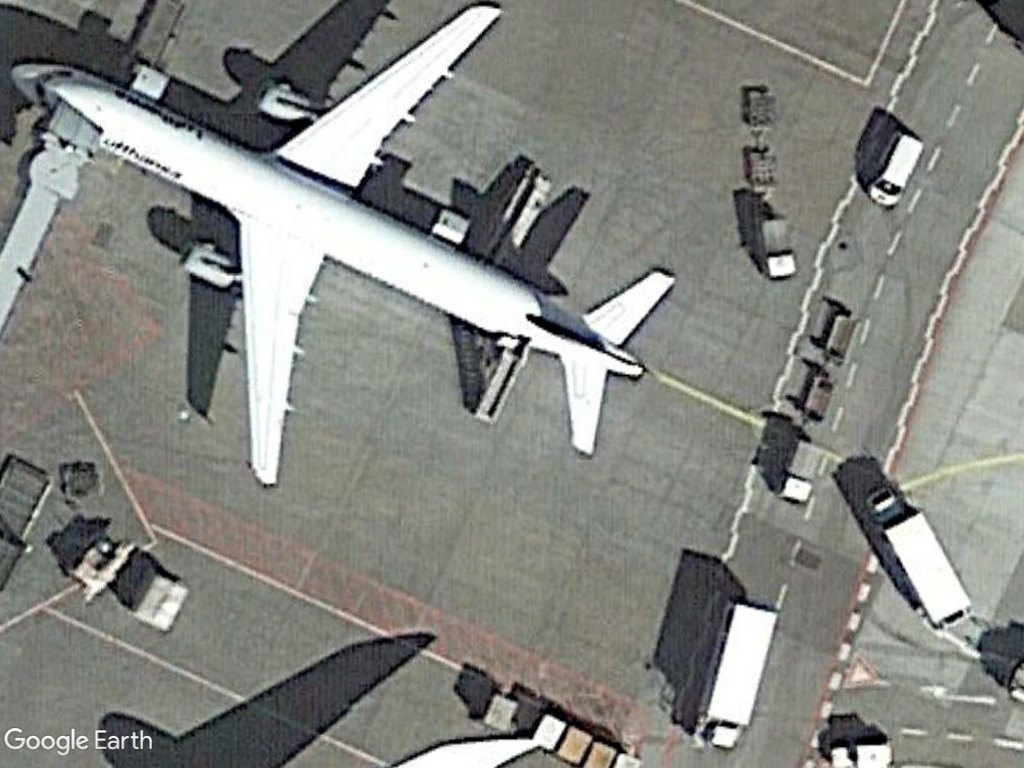airliner: (5, 0, 674, 489)
stairtruck: (480, 168, 555, 268), (469, 343, 531, 426)
truck: (861, 487, 974, 633), (692, 598, 782, 755)
van: (858, 130, 927, 209)
